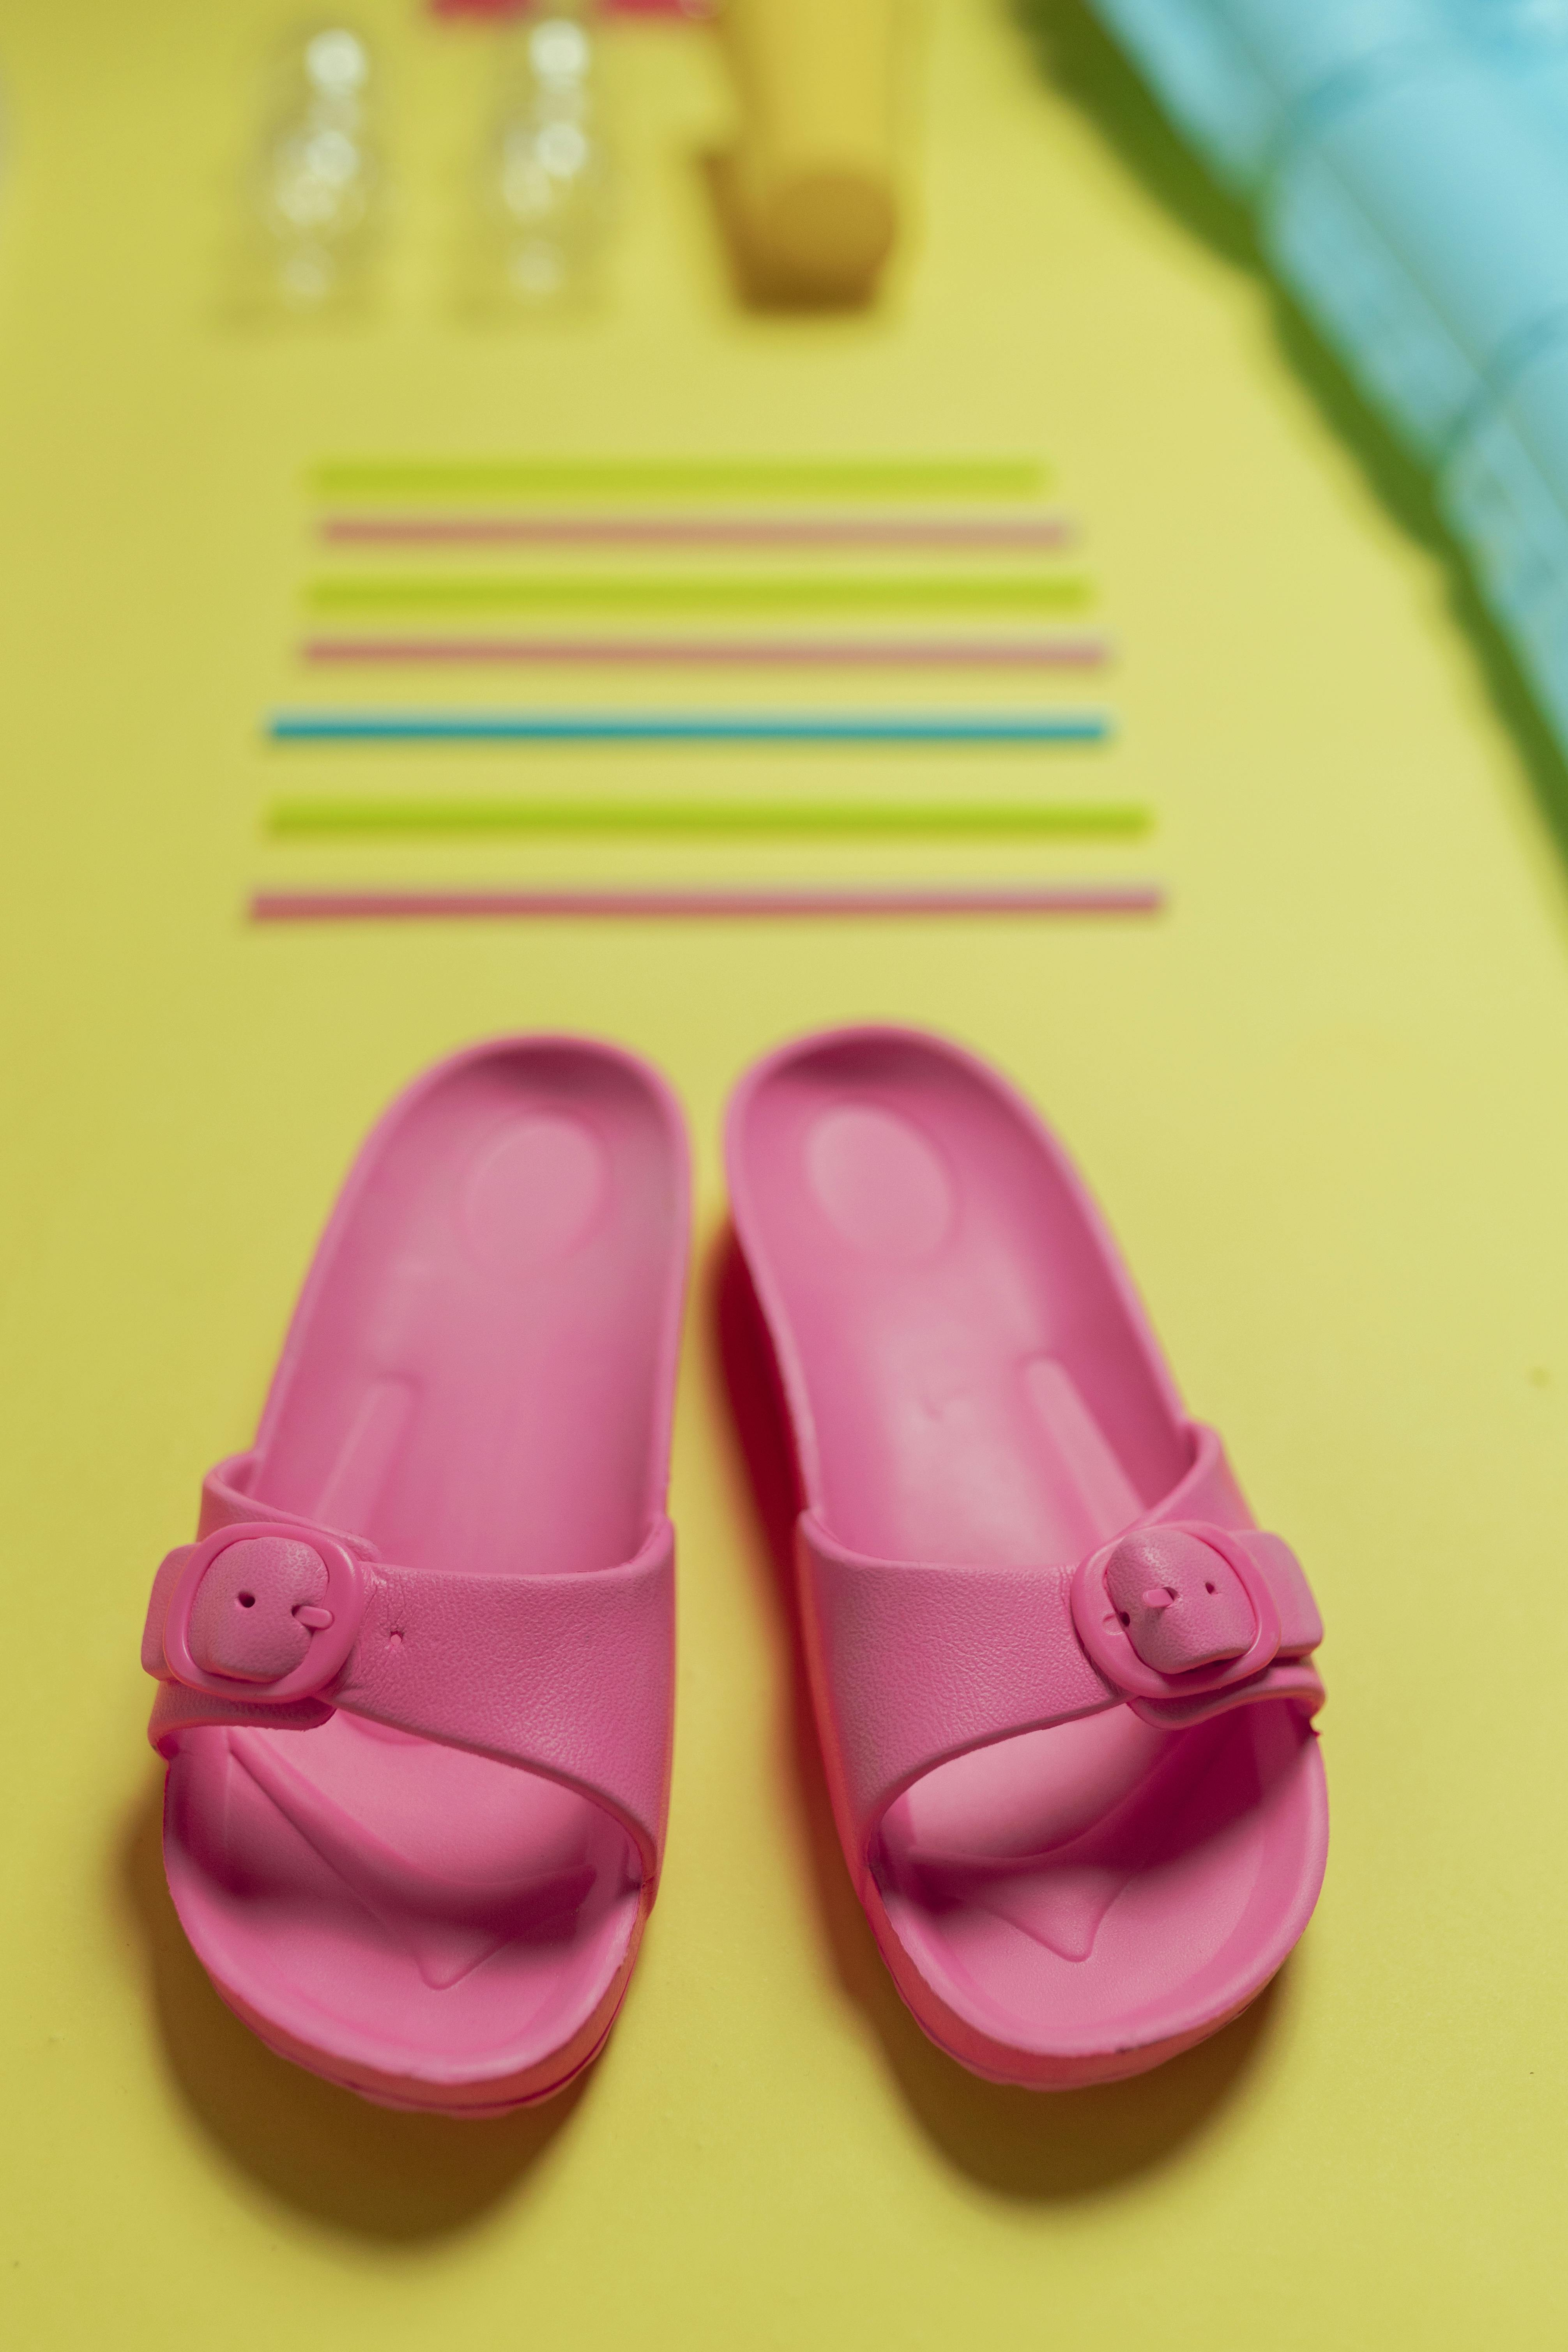Footwear: (84, 966, 1351, 2163)
